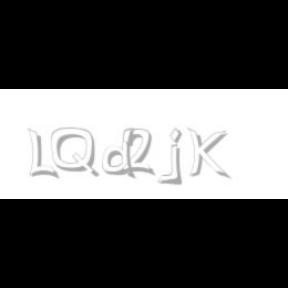2: (119, 128, 153, 176)
K: (187, 128, 227, 180)
L: (28, 128, 56, 180)
Q: (51, 128, 97, 178)
d: (102, 128, 140, 180)
j: (168, 128, 196, 186)
